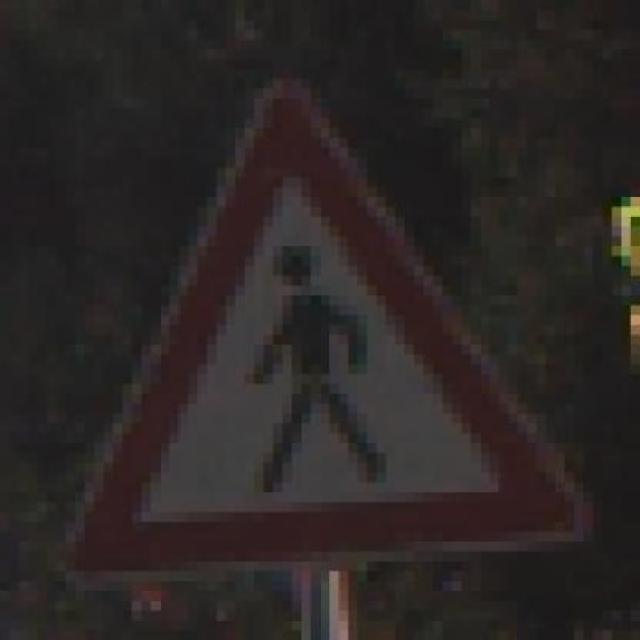Pedestrian Crossing: (34, 73, 598, 565)
